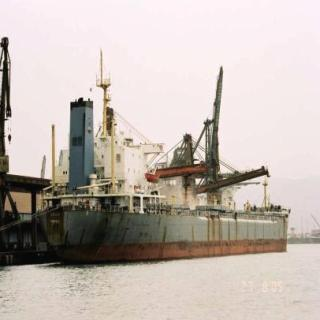Bulk Carrier: (11, 43, 274, 257)
